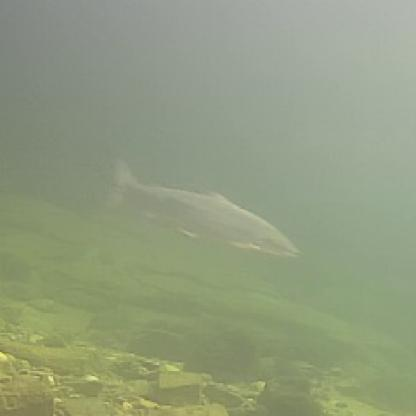salmon: (96, 151, 304, 262)
